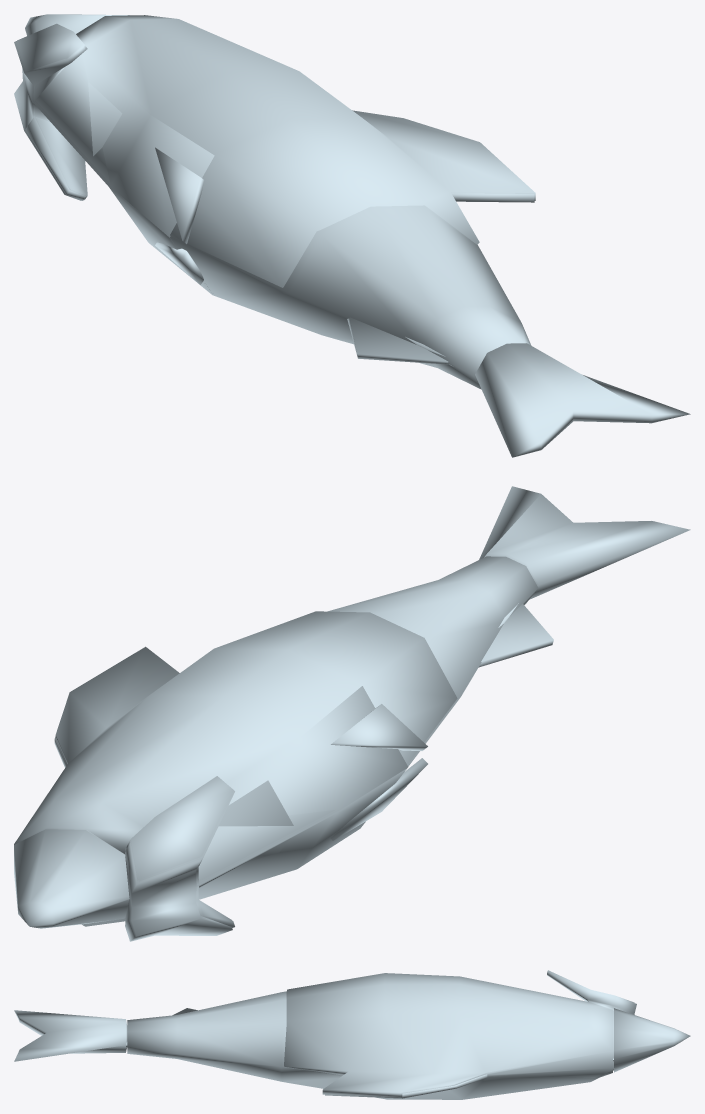
File: fish.fbx
3 renders of one model, top to bottom at view 1: azimuth 30°, elevation 25°; view 2: azimuth 150°, elevation 25°; view 3: azimuth 270°, elevation 25°, orthographic. The views are drawn at different scales.
Visible parts, largest first — view 1: Fish; view 2: Fish; view 3: Fish.
Part boxes in pixels (left/top/right/bottom): Fish: left=14, top=14, right=690, bottom=457; Fish: left=14, top=486, right=690, bottom=941; Fish: left=14, top=970, right=690, bottom=1099.
Bounding box in the file's own units: 947 × 485 × 2856.
